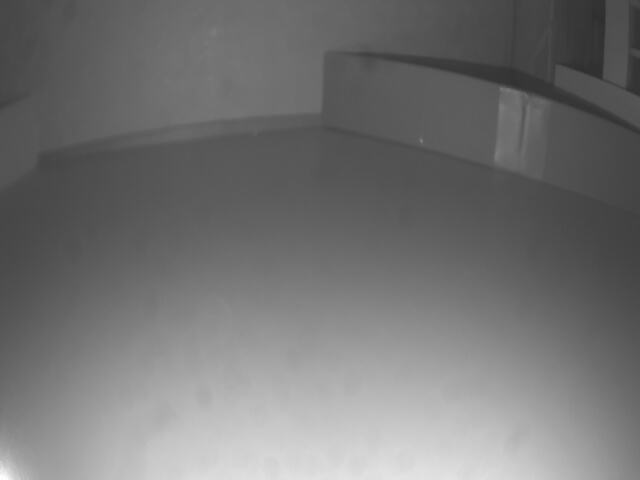Green: (315, 50, 640, 208)
Red: (0, 95, 36, 193)
